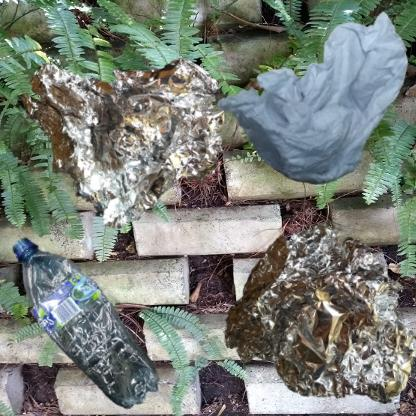aluminio: (10, 10, 269, 261), (213, 213, 416, 416)
botella: (10, 213, 183, 416)
papel: (213, 10, 416, 191)
